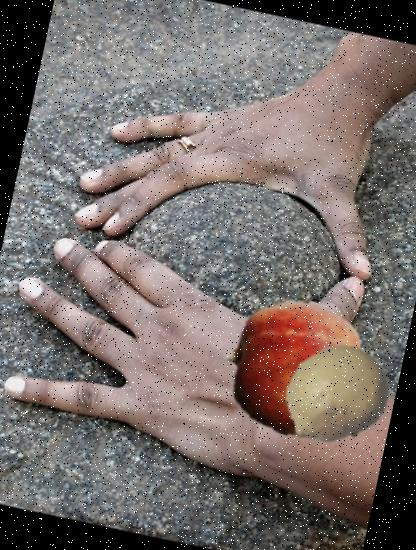Lemon: (268, 328, 402, 462)
Peach: (211, 286, 373, 448)
